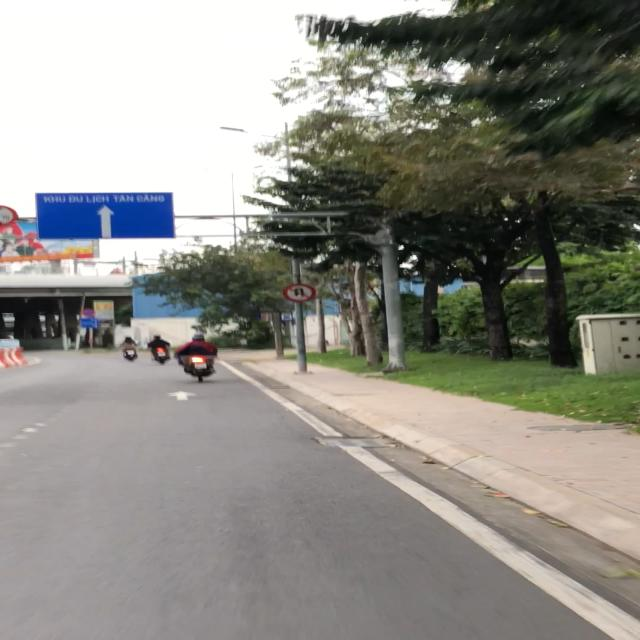Bien bao cam quay dau xe: (280, 282, 322, 304)
